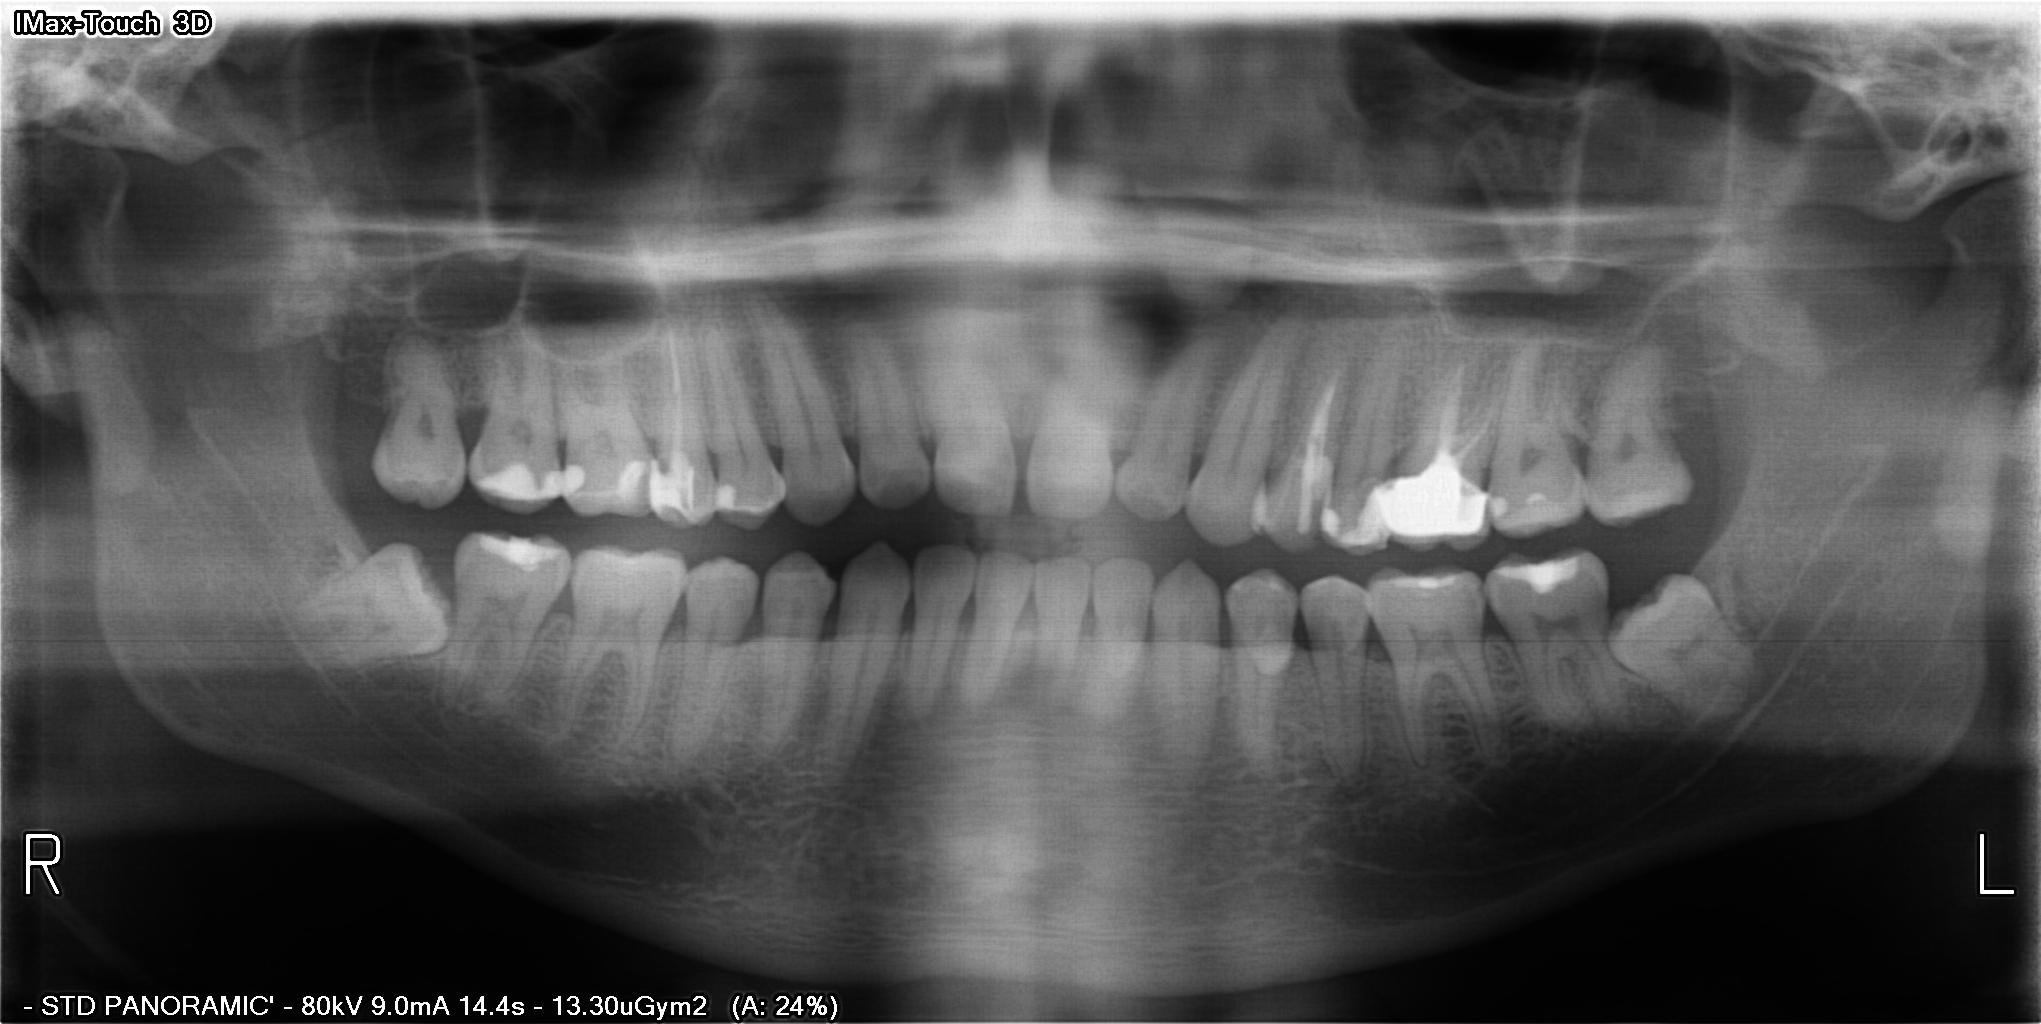Çürük: (1378, 436, 1495, 547), (465, 519, 571, 583), (467, 448, 568, 508), (645, 436, 704, 537), (1370, 556, 1483, 602), (713, 461, 793, 521), (1483, 550, 1600, 589), (1318, 488, 1384, 549), (607, 451, 656, 513), (559, 448, 598, 499), (1474, 491, 1524, 525)
Çürük Bölgesi: (1489, 572, 1551, 606), (1298, 615, 1348, 657)
